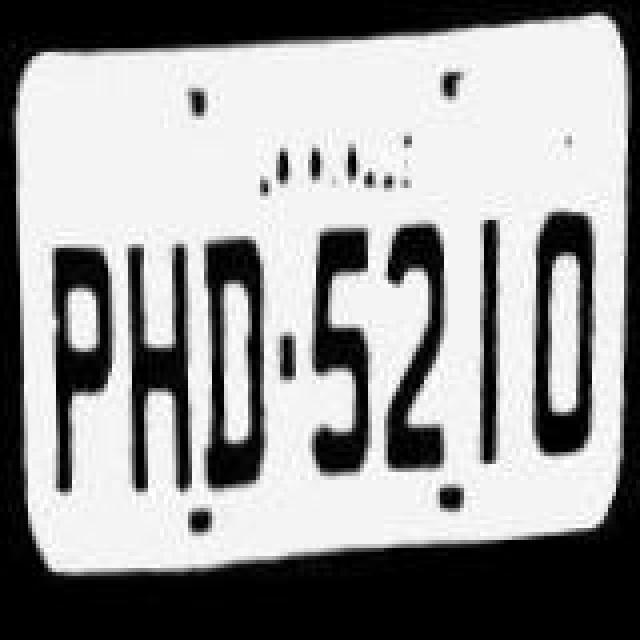1: (462, 218, 514, 462)
2: (376, 212, 456, 472)
5: (294, 226, 378, 474)
D: (196, 224, 288, 488)
H: (116, 240, 200, 492)
O: (516, 206, 604, 458)
P: (36, 236, 128, 500)
